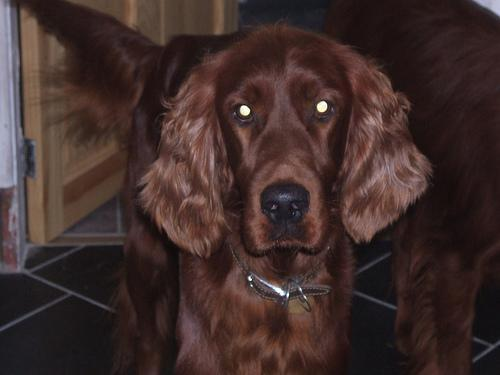Irish_setter: (10, 1, 430, 374)
